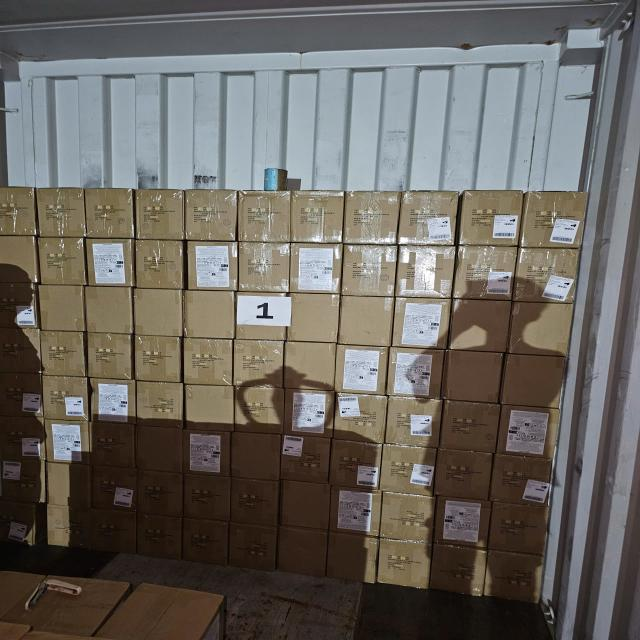Carton: (526, 191, 590, 248), (518, 250, 582, 306), (504, 352, 569, 406), (454, 246, 515, 302), (509, 304, 572, 358), (460, 191, 521, 246), (451, 300, 512, 354), (398, 190, 456, 246), (486, 550, 546, 604), (500, 405, 563, 456), (394, 300, 452, 353), (398, 247, 457, 299), (490, 505, 550, 556), (344, 191, 400, 245), (492, 456, 552, 506), (446, 349, 503, 401), (439, 402, 497, 453), (378, 447, 434, 499), (338, 296, 394, 348), (437, 451, 494, 502), (432, 546, 489, 597), (390, 348, 446, 399), (378, 491, 432, 543), (343, 246, 397, 298), (386, 398, 442, 448), (375, 541, 429, 591), (336, 344, 391, 393), (437, 502, 492, 551), (292, 245, 345, 295), (239, 193, 293, 242), (184, 290, 236, 340), (240, 244, 292, 294), (186, 192, 238, 242), (85, 188, 135, 240), (290, 194, 342, 244), (282, 341, 335, 390), (238, 296, 292, 344), (327, 534, 378, 584), (336, 394, 388, 443), (84, 238, 136, 287), (281, 480, 331, 530), (136, 191, 185, 242), (277, 525, 326, 576), (232, 340, 284, 388), (186, 244, 238, 292), (182, 338, 234, 386), (332, 442, 382, 491), (38, 189, 88, 238), (331, 486, 381, 535), (135, 240, 184, 290), (282, 390, 332, 438), (228, 522, 278, 570), (279, 438, 329, 486), (288, 297, 338, 345), (230, 431, 280, 479), (232, 389, 283, 436), (39, 237, 88, 285), (229, 477, 277, 526), (84, 284, 131, 334), (134, 292, 183, 339), (136, 424, 185, 471), (133, 336, 181, 383), (40, 283, 87, 331), (183, 518, 230, 566), (186, 387, 237, 431), (85, 332, 131, 380), (136, 383, 184, 428), (42, 376, 90, 420), (42, 331, 88, 376), (186, 475, 232, 520), (136, 471, 182, 516), (90, 424, 135, 470), (46, 464, 92, 509), (45, 419, 91, 464), (93, 380, 138, 425), (90, 468, 135, 513), (188, 428, 232, 474), (137, 518, 183, 562), (0, 236, 39, 286), (48, 508, 91, 552), (0, 416, 43, 460), (90, 514, 135, 556), (0, 460, 42, 504), (0, 328, 40, 374), (0, 280, 38, 328), (0, 376, 42, 419), (0, 187, 35, 237), (0, 504, 34, 550)
